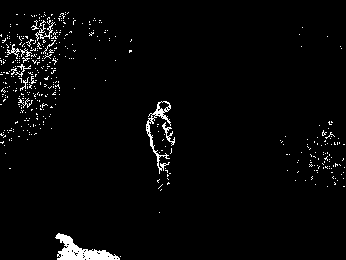person: (145, 99, 176, 193)
